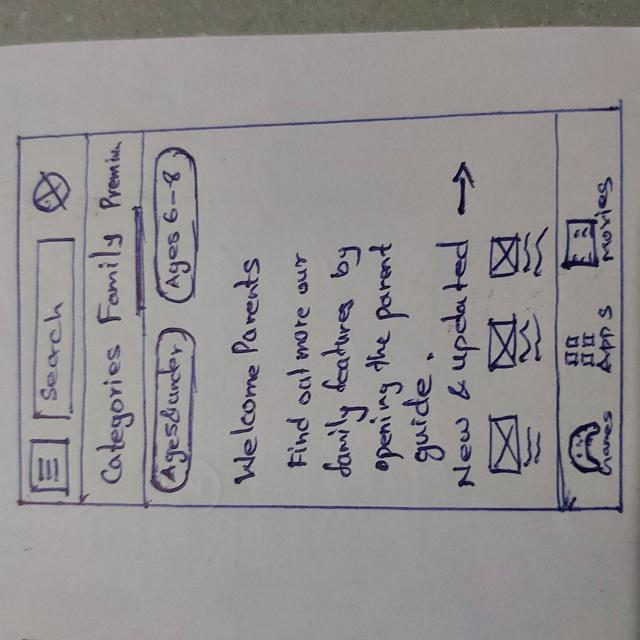AppBar: (14, 133, 88, 507)
BottomNavBar: (554, 104, 624, 516)
BottomNavItems: (557, 170, 621, 276), (558, 299, 621, 385), (559, 405, 621, 490)
Chips: (150, 325, 197, 496), (154, 145, 198, 307)
DrawerToggleButton: (28, 439, 69, 495)
EditText: (34, 238, 75, 419)
HorizontalListView: (478, 182, 552, 510)
Icon: (449, 159, 475, 224)
Image: (487, 417, 521, 474), (486, 319, 518, 370), (489, 235, 522, 279)
ListView: (477, 177, 551, 510)
MainLayout: (13, 105, 634, 525)
RoundedImage: (28, 169, 73, 215)
Tab: (85, 133, 149, 508)
TabItem: (86, 332, 144, 497), (87, 213, 145, 330), (87, 134, 140, 212)
TextView: (371, 242, 437, 470), (439, 239, 477, 490), (328, 244, 367, 478), (234, 255, 265, 483), (287, 251, 314, 468), (523, 225, 550, 282), (519, 317, 546, 370), (522, 423, 542, 471)
